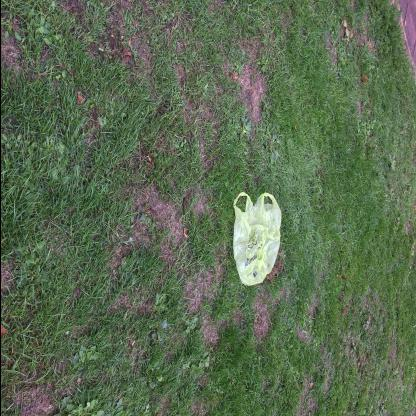plastik: (232, 191, 280, 286)
